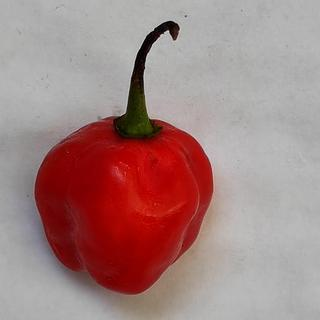Grade-B: (28, 106, 216, 295)
